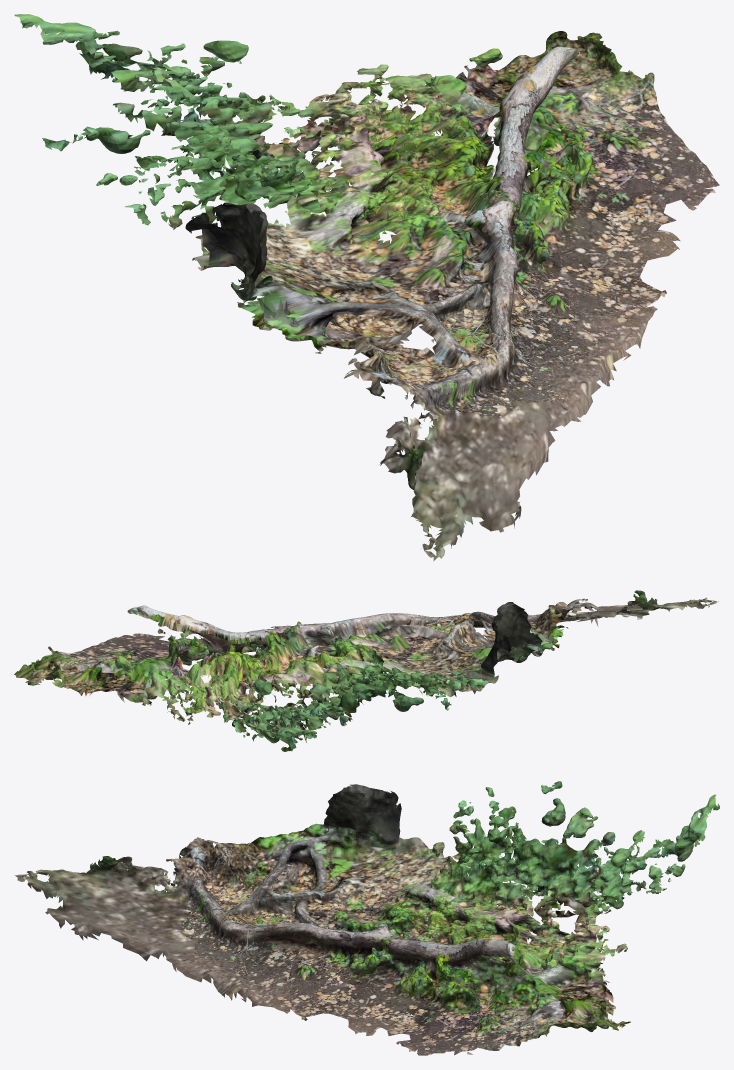
Rendered from metascan_20230505-1225.obj.
3 renders of one model, top to bottom at view 1: azimuth 30°, elevation 25°; view 2: azimuth 150°, elevation 25°; view 3: azimuth 270°, elevation 25°, orthographic. The views are drawn at different scales.
Parts seen in each view (by area): view 1: mesh_0; view 2: mesh_0; view 3: mesh_0.
Part boxes in pixels (x1,y1,x2,y2): mesh_0: [14, 14, 719, 561]; mesh_0: [14, 590, 718, 751]; mesh_0: [14, 781, 719, 1055].
Bounding box in the file's own units: 4.58 × 1.41 × 6.71.
1 material, 1 textured.
